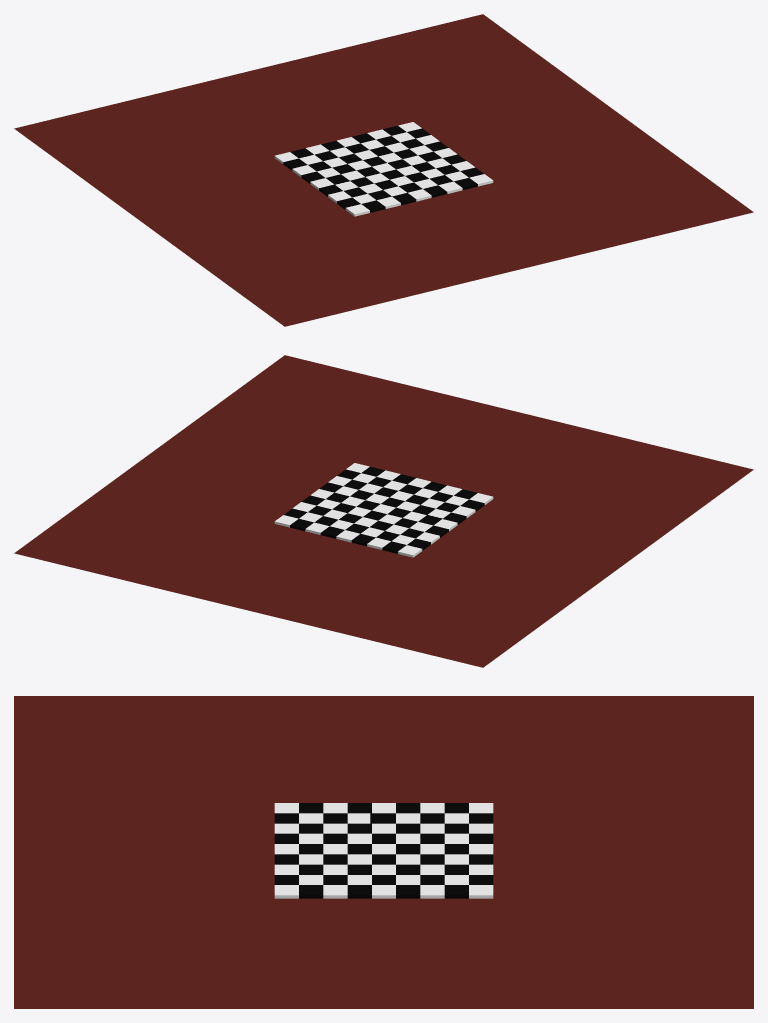
File: Checkerboard.fbx
3 renders of one model, top to bottom at view 1: azimuth 30°, elevation 25°; view 2: azimuth 150°, elevation 25°; view 3: azimuth 270°, elevation 25°, orthographic. The views are drawn at different scales.
Visible parts, largest first — view 1: Checkerboard; view 2: Checkerboard; view 3: Checkerboard.
Part boxes in pixels (x1,y1,x2,y2): Checkerboard: (14,14,753,326); Checkerboard: (14,355,753,667); Checkerboard: (14,696,753,1008).
Bounding box in the file's own units: 30.44 × 0.15 × 30.44.
